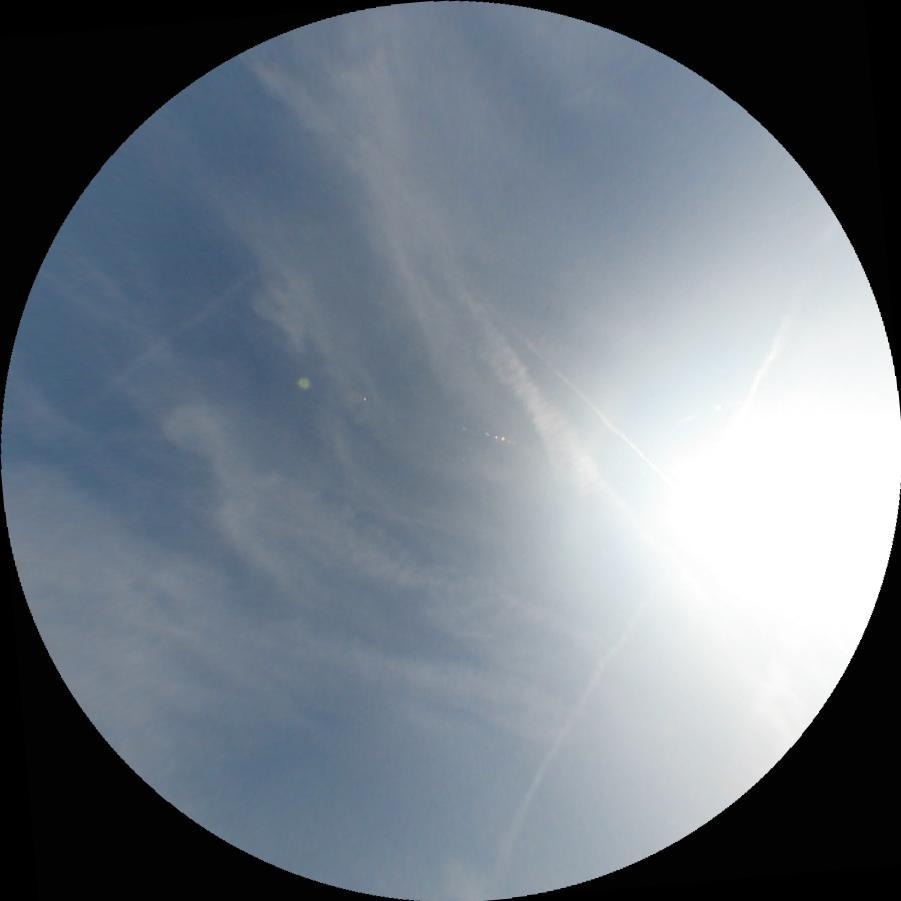contrail old: (477, 266, 824, 894), (510, 327, 671, 486), (95, 266, 258, 395)
contrail veryold: (123, 392, 611, 742), (199, 596, 580, 779), (425, 271, 647, 561)
contrail young: (459, 631, 496, 637)
sun: (649, 378, 901, 674)
